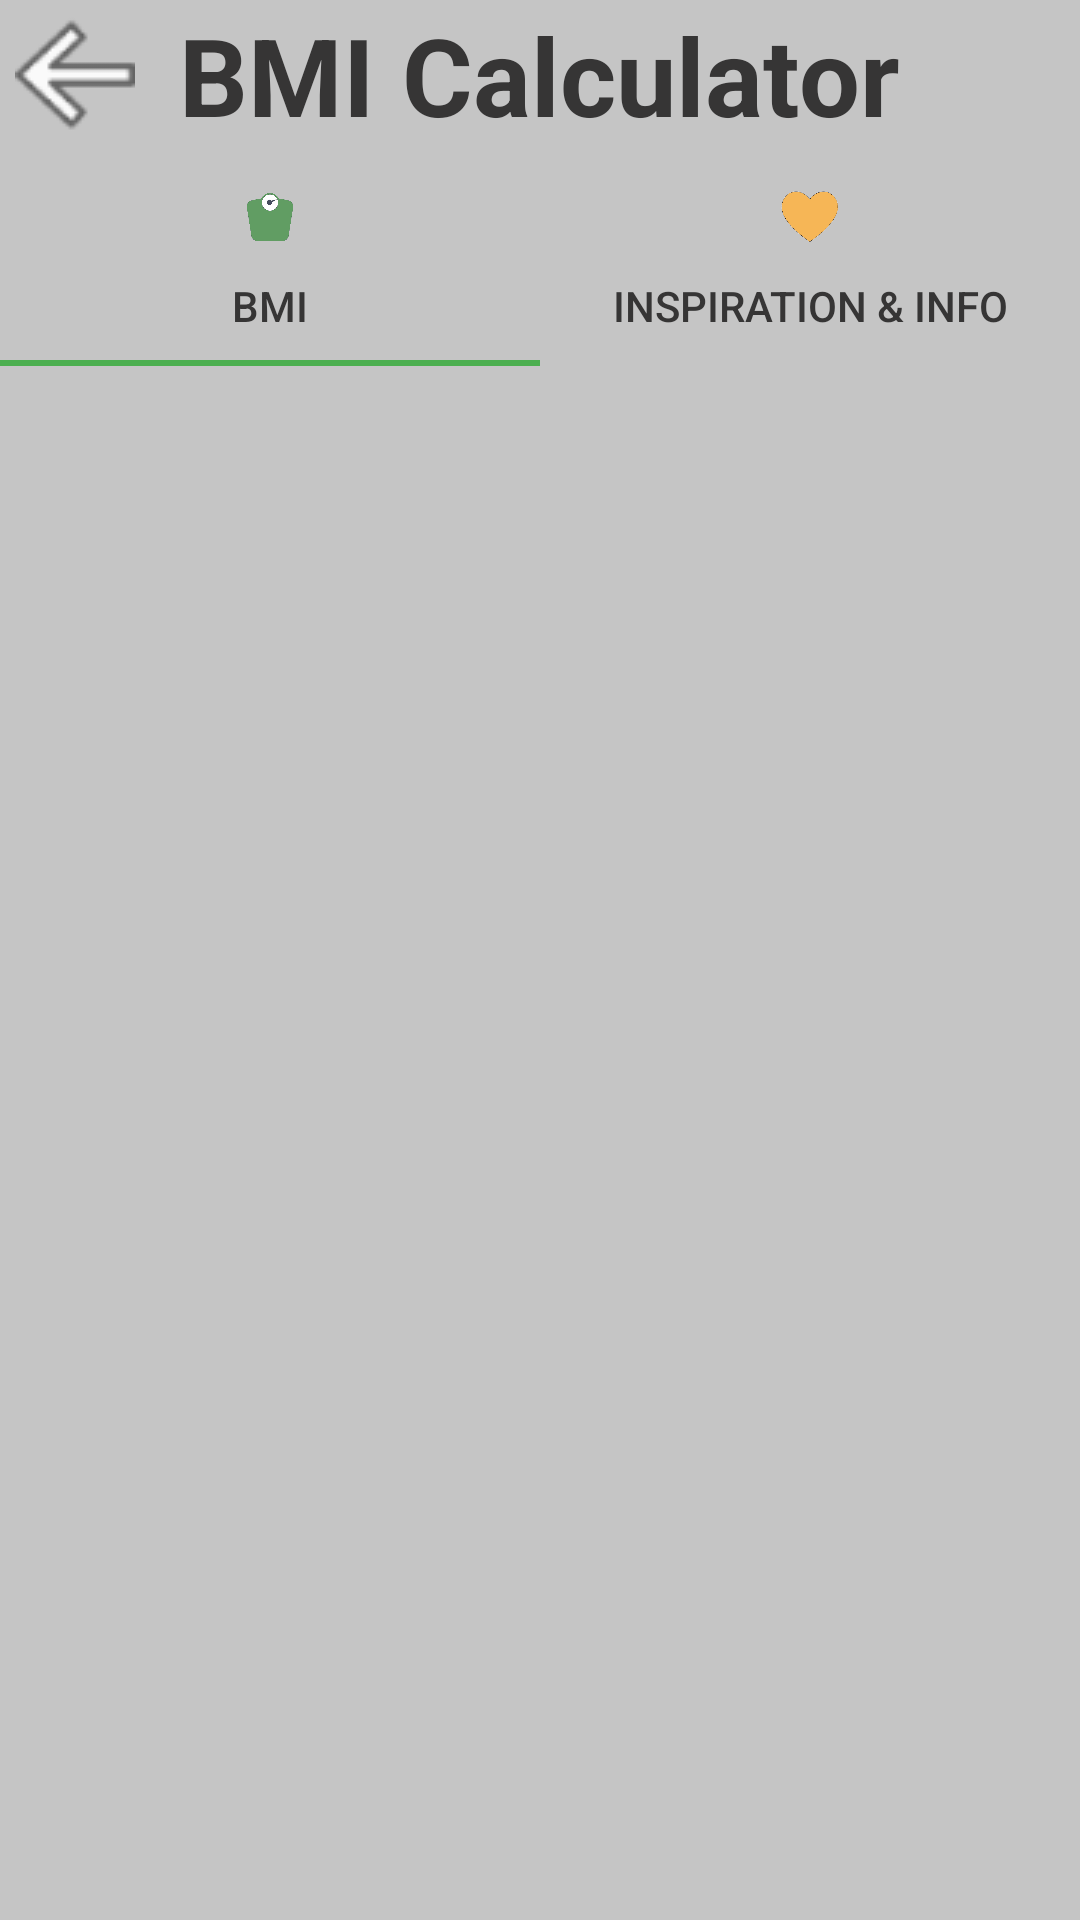

Screen size 1080px×1920px. Icon name, then its box in pixels as (x1, y1, x2, y2):
Back: (15, 21, 135, 128)
